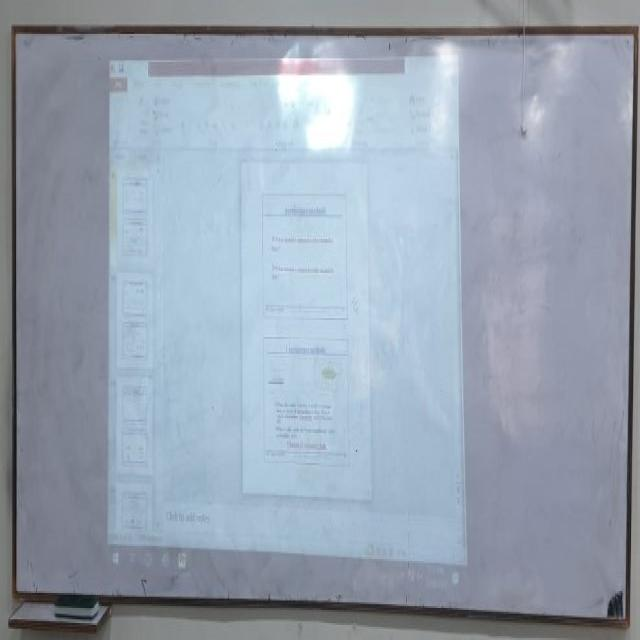Slide: (107, 49, 468, 587)
White-board: (14, 31, 636, 622)
